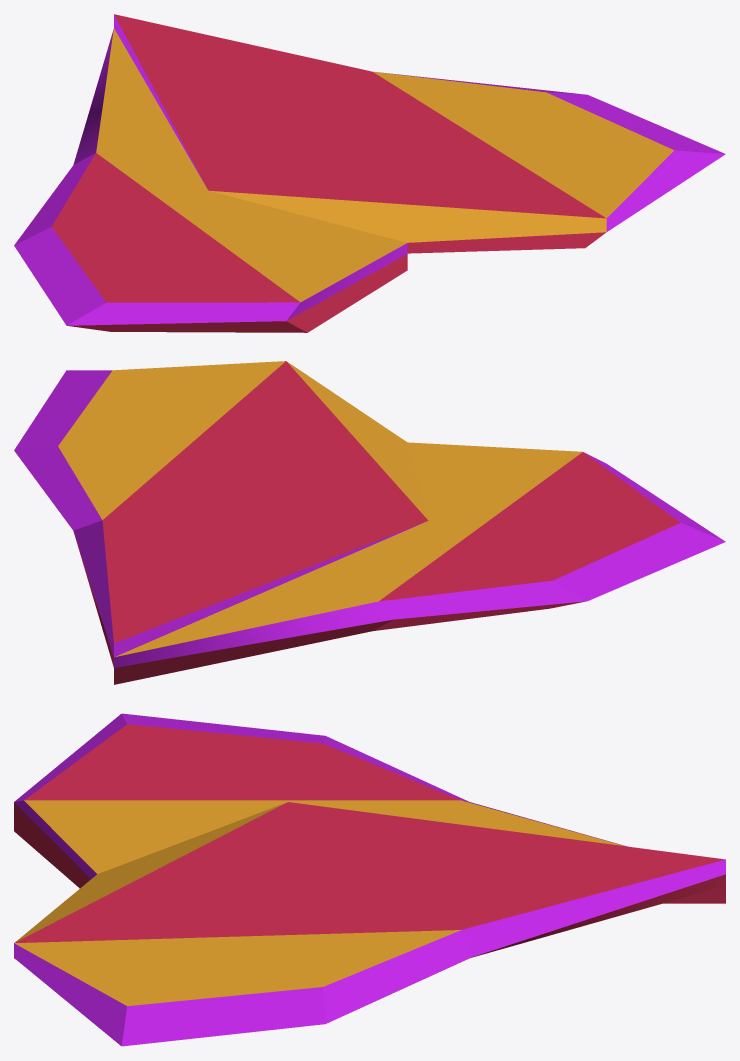
File: Korea - Coloured Hearts 2.FBX
3 renders of one model, top to bottom at view 1: azimuth 30°, elevation 25°; view 2: azimuth 150°, elevation 25°; view 3: azimuth 270°, elevation 25°, orthographic. The views are drawn at different scales.
Visible parts, largest first — view 1: Box002; view 2: Box002; view 3: Box002.
Boxes of the visible parts, x1,y1,x2,y2 form: Box002: (14,14,725,332); Box002: (14,361,725,684); Box002: (14,713,725,1046).
Bounding box in the file's own units: 59.18 × 51.69 × 3.55.
